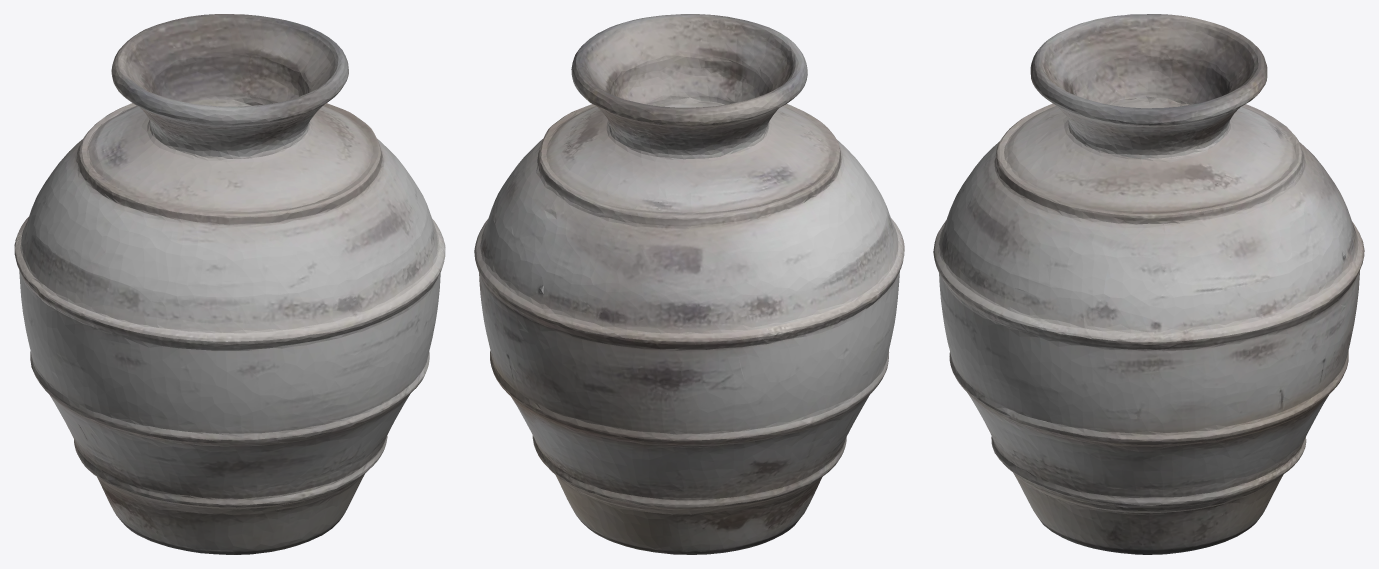
File: clay-vase.glb
3 renders of one model, left to right at view 1: azimuth 30°, elevation 25°; view 2: azimuth 150°, elevation 25°; view 3: azimuth 270°, elevation 25°, orthographic.
Parts seen in each view (by area): view 1: geometry_0; view 2: geometry_0; view 3: geometry_0.
Part boxes in pixels (box(x1,y1,x2,y2)): geometry_0: box(14, 14, 445, 554); geometry_0: box(474, 14, 904, 554); geometry_0: box(933, 14, 1364, 554).
Size of the model in its own units: 0.35 by 0.4 by 0.35.
Materials: 1 (1 with a texture image).
